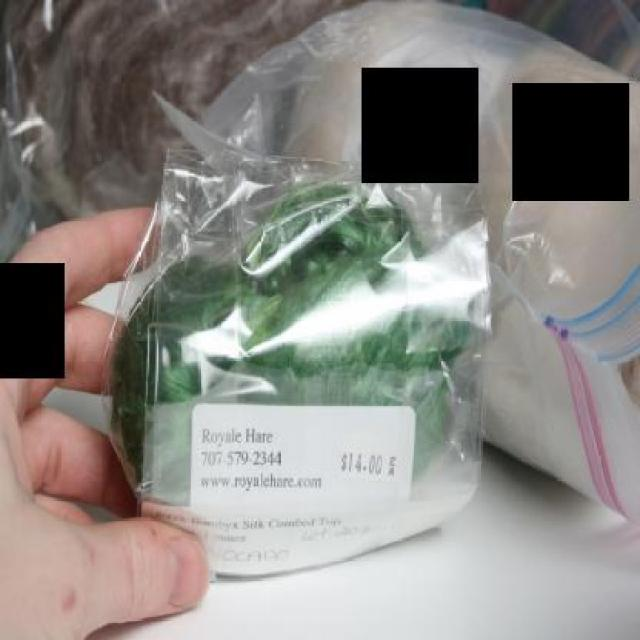plastic bag: (86, 98, 540, 596)
